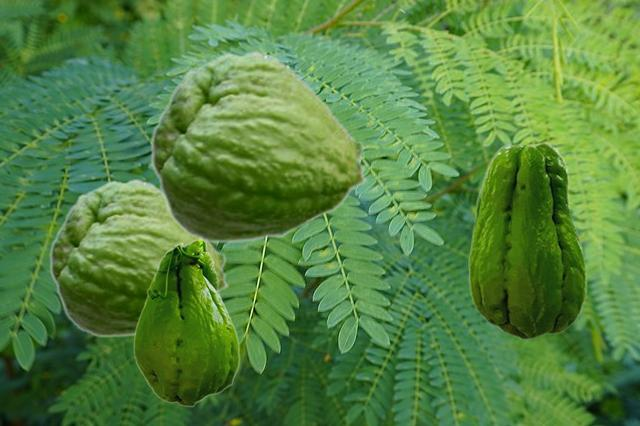sayote: (150, 50, 368, 243), (49, 178, 229, 337), (468, 141, 586, 339), (133, 239, 239, 406)
